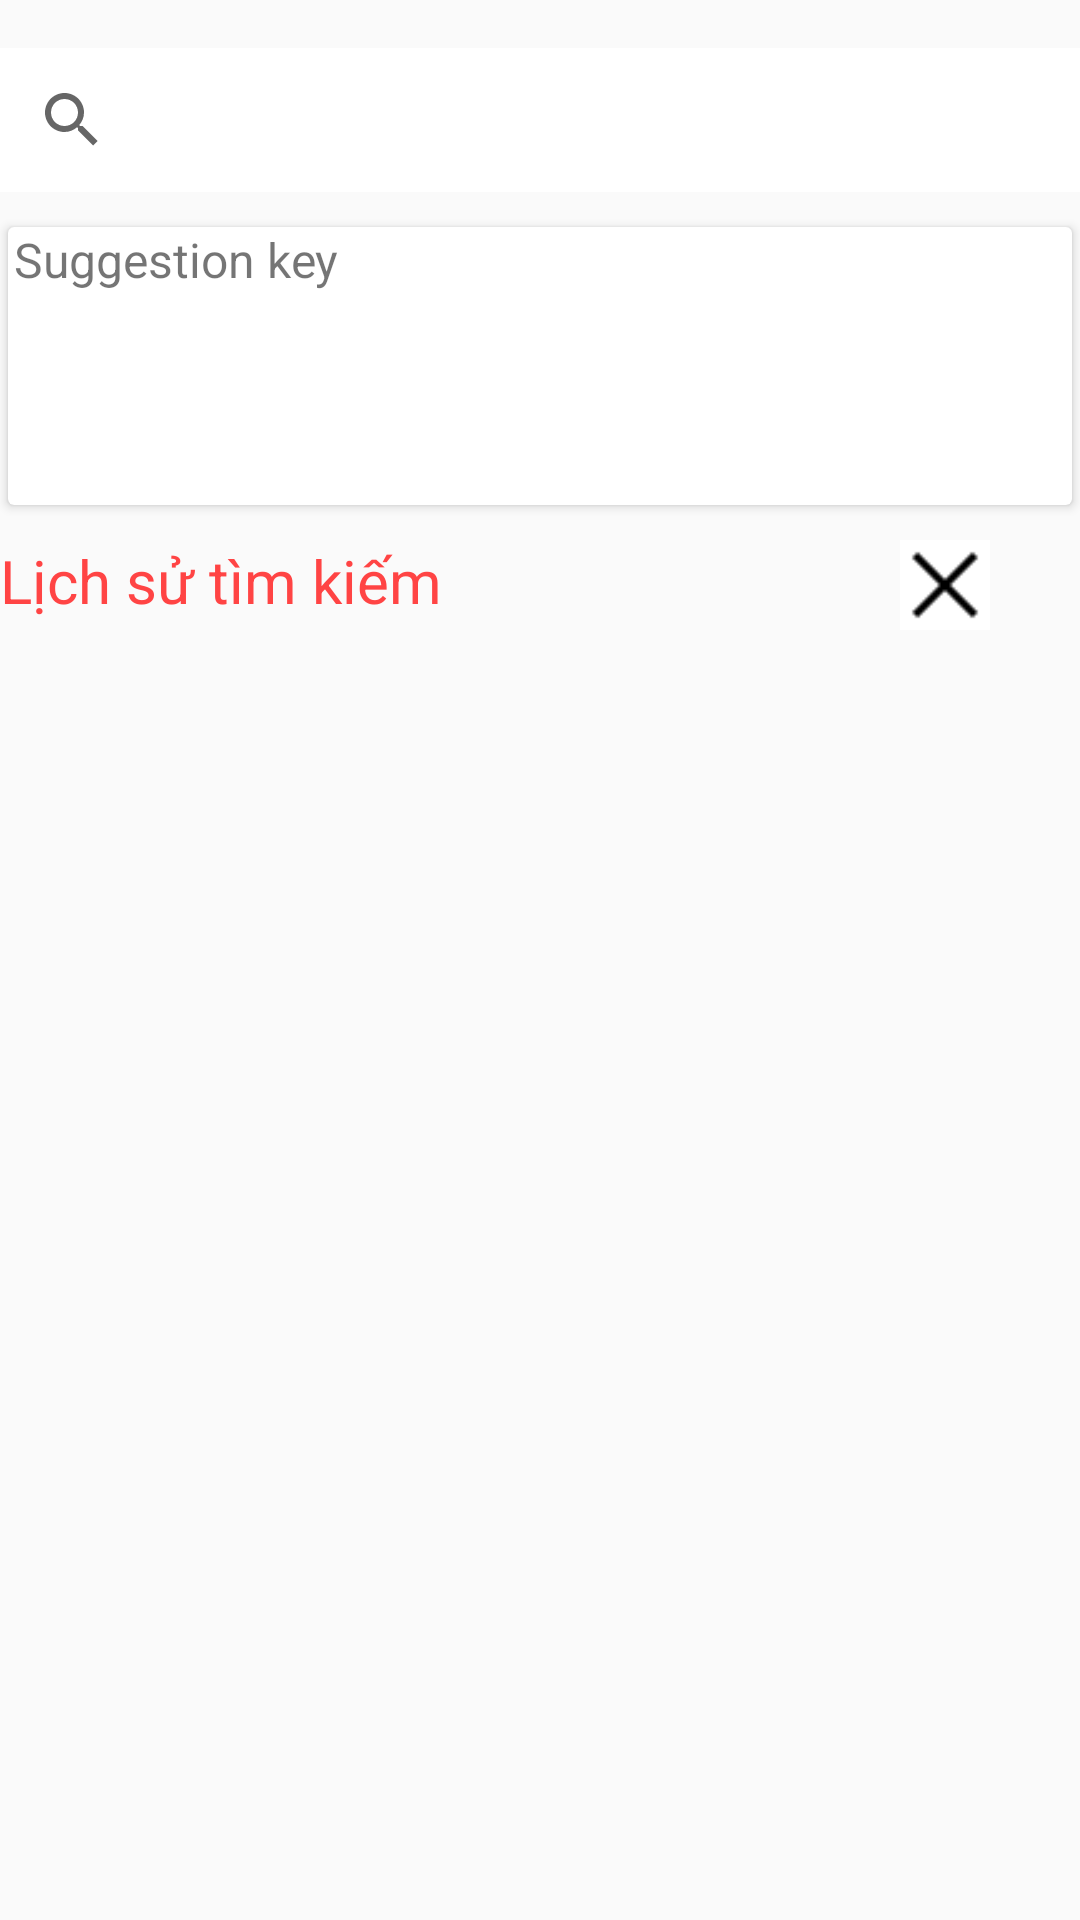

Where to tap for icons on this 1080px×1920px app screen, as (x=x, y=y):
delete: (x=945, y=585)
